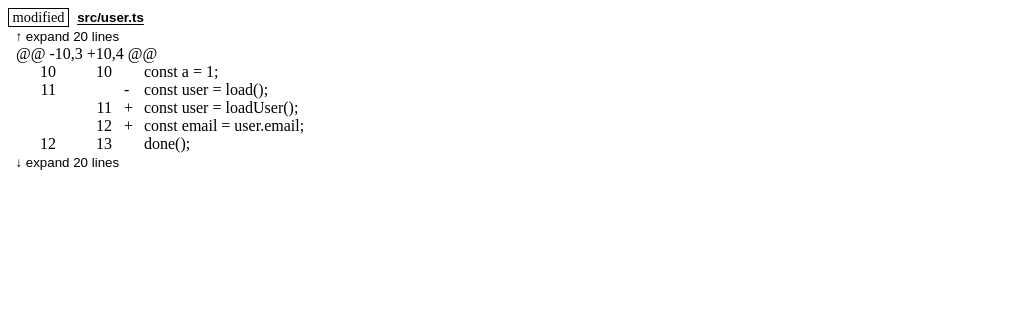
Test case: DiffView › hides expanded lines again from the hunk header and returns focus to the file name
Click the button with aria-label "Show 20 more lines above in src/user.ts": [72, 36] box x1=8 y1=29 x2=1016 y2=44
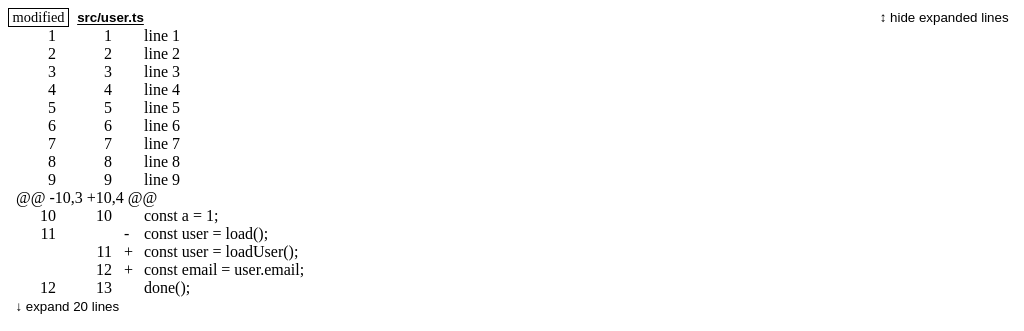
Click the button with aria-label "Hide expanded lines in src/user.ts": [944, 18] box x1=872 y1=10 x2=1016 y2=25
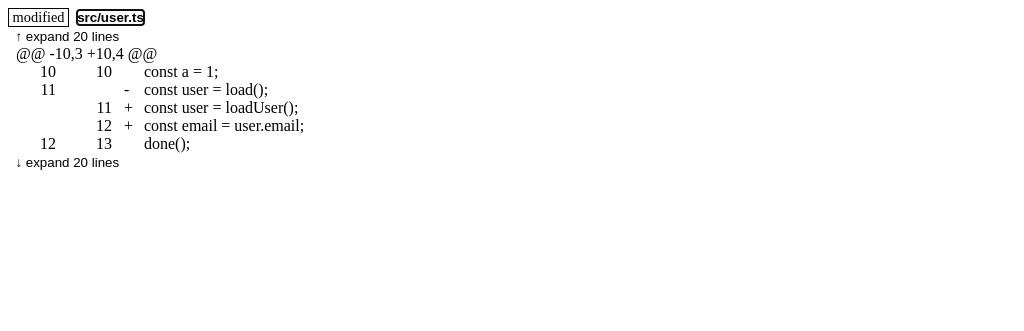
Check: the button with aria-label "Show 20 more lines above in src/user.ts" is shown, box x1=8 y1=29 x2=1016 y2=44
